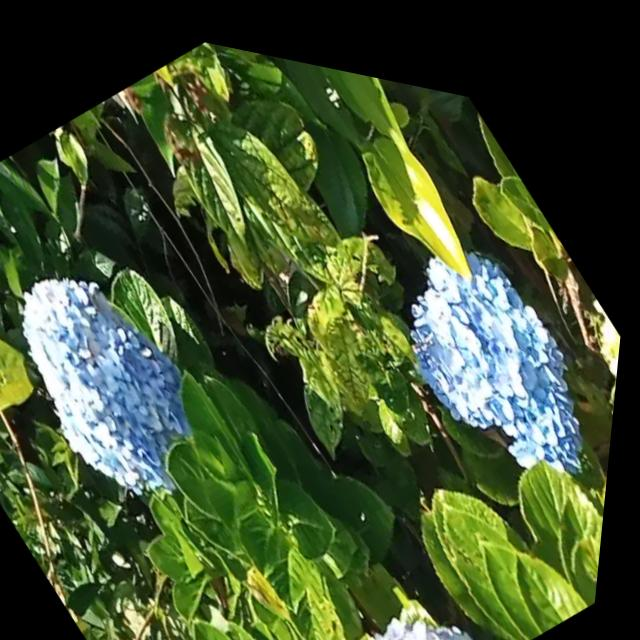Flower: (356, 179, 631, 504), (0, 223, 242, 521)
